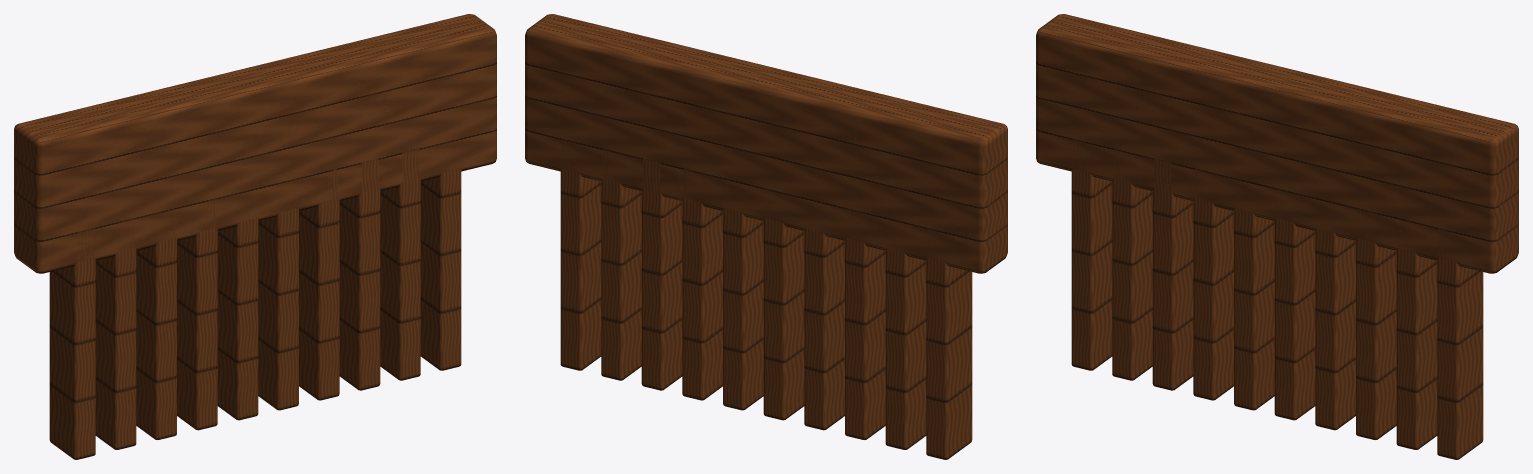
The model's file is primitive-crafting-workshop-weaving-comb-7c4b9c42__21574.glb.
3 views of the same model, side by side, from view 1: azimuth 30°, elevation 25°; view 2: azimuth 150°, elevation 25°; view 3: azimuth 330°, elevation 25° (orthographic).
Parts seen in each view (by area): view 1: weaving-comb; view 2: weaving-comb; view 3: weaving-comb.
Boxes of the visible parts, bbox=[...] form: weaving-comb: bbox=[14, 14, 496, 459]; weaving-comb: bbox=[525, 14, 1007, 459]; weaving-comb: bbox=[1036, 14, 1518, 459].
Bounding box in the file's own units: 0.25 × 0.17 × 0.025.
1 material, 1 textured.
